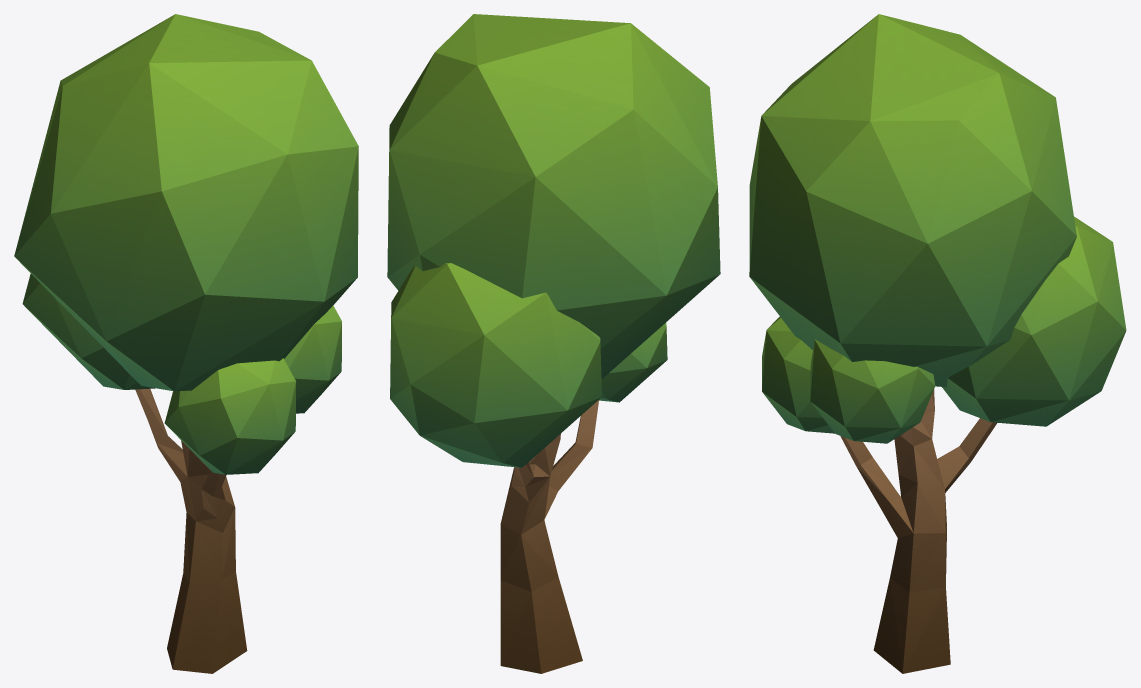
The model's file is ZLP_Plant_I_12.FBX.
3 views of the same model, side by side, from view 1: azimuth 30°, elevation 25°; view 2: azimuth 150°, elevation 25°; view 3: azimuth 270°, elevation 25° (orthographic). The views are drawn at different scales.
Visible parts, largest first — view 1: ZLP_Plant_I_12; view 2: ZLP_Plant_I_12; view 3: ZLP_Plant_I_12.
Boxes of the visible parts, left/top/right/bottom form: ZLP_Plant_I_12: left=14, top=14, right=358, bottom=673; ZLP_Plant_I_12: left=387, top=14, right=720, bottom=673; ZLP_Plant_I_12: left=749, top=14, right=1126, bottom=673.
Bounding box in the file's own units: 66.18 × 130 × 73.29.
